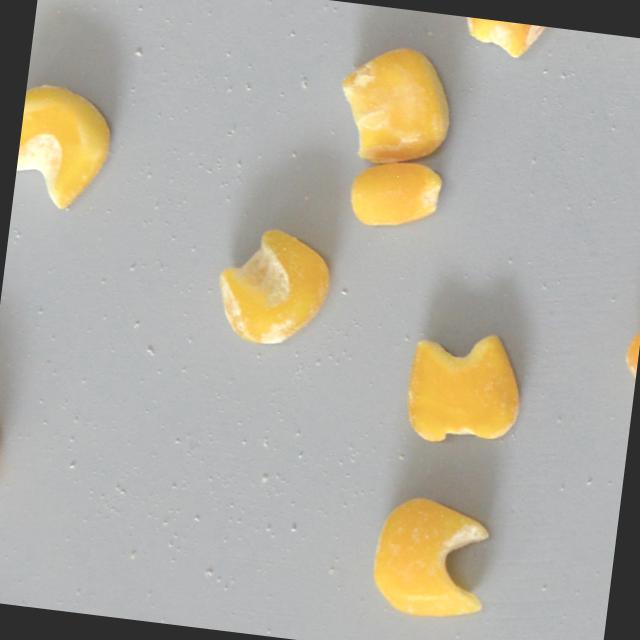estandar: (344, 154, 445, 232)
no_canjicado: (368, 489, 495, 622), (402, 319, 528, 450), (12, 80, 118, 212)
pelicula: (332, 38, 458, 168), (210, 220, 335, 348), (454, 15, 552, 61), (619, 296, 640, 399)
